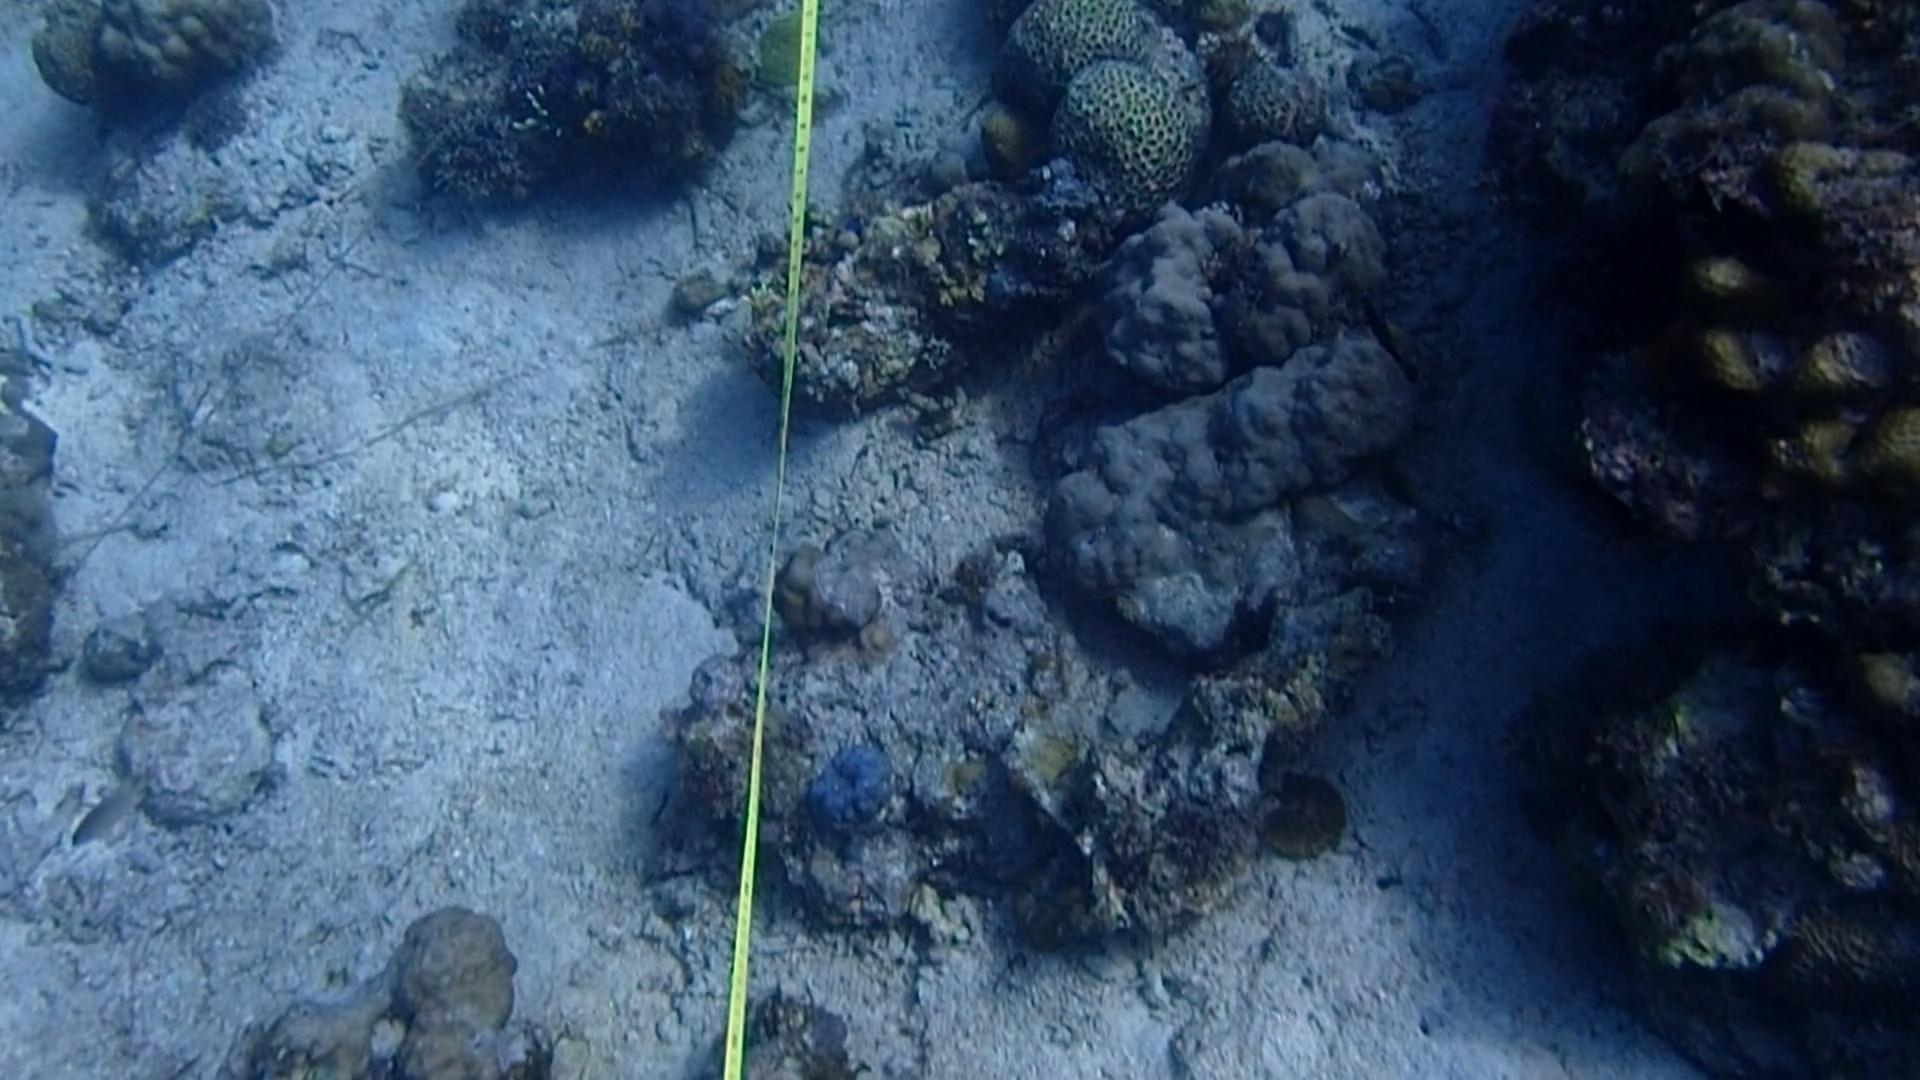Dark Fish: (1631, 167, 1800, 274), (1671, 363, 1845, 463), (1329, 273, 1437, 401), (1729, 923, 1812, 1019)
Light Fish: (79, 767, 157, 864)
